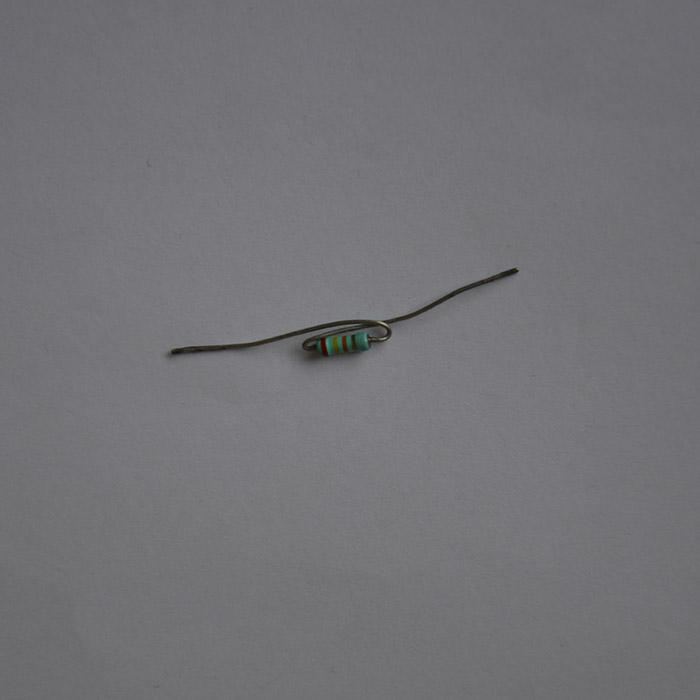resistor: (314, 331, 369, 357)
